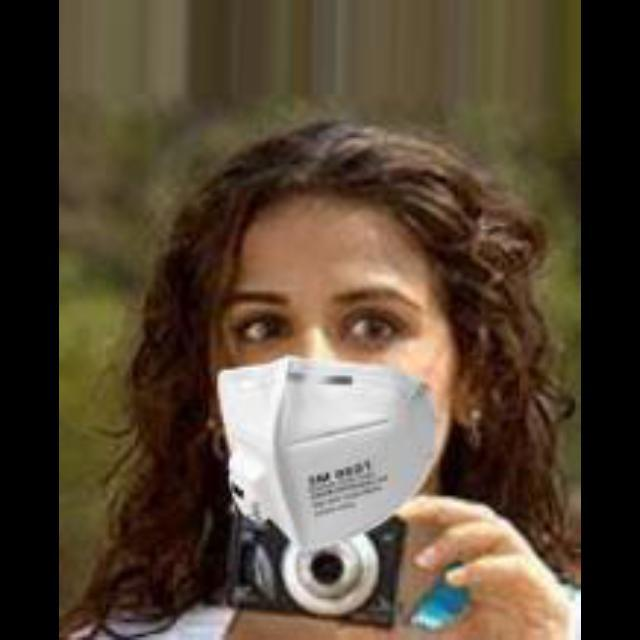suspicion: (198, 173, 492, 554)
